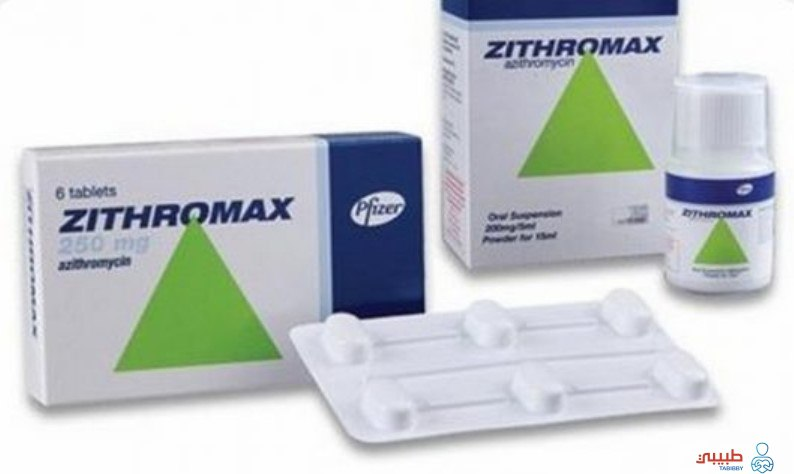Medicine: (11, 139, 438, 350), (436, 0, 676, 268), (666, 63, 779, 299)
